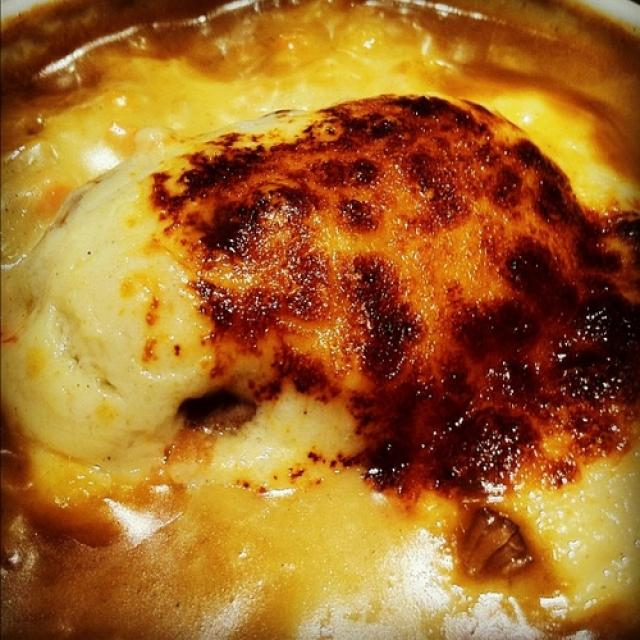米饭主食: (39, 50, 616, 628)
